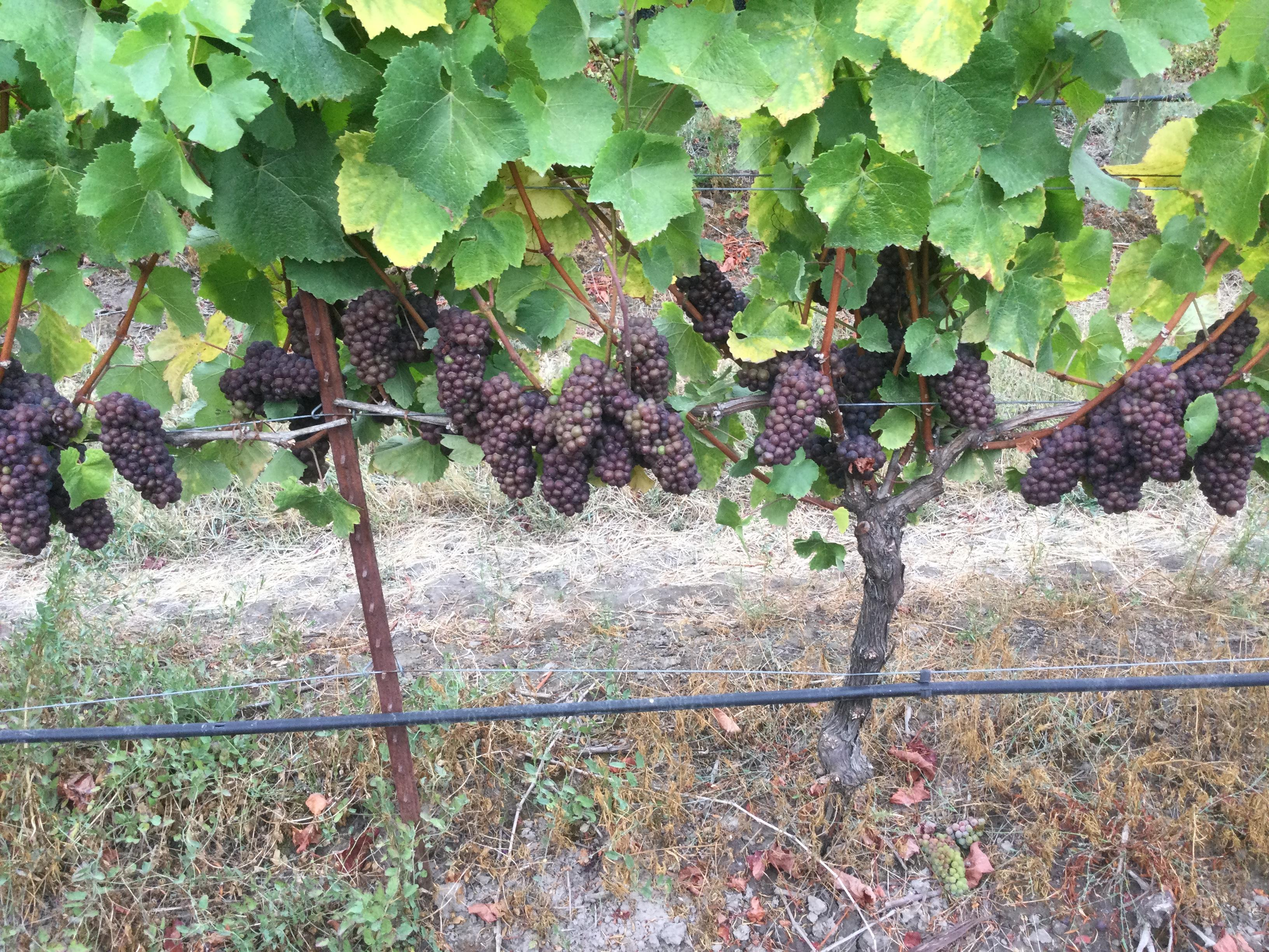leaf: (366, 43, 528, 214), (211, 110, 348, 268), (336, 131, 453, 267), (639, 4, 776, 117), (872, 56, 979, 200), (0, 0, 131, 117), (803, 134, 931, 251), (739, 0, 854, 123), (244, 0, 378, 103), (0, 109, 90, 257), (77, 143, 186, 260), (1180, 103, 1268, 244), (589, 130, 697, 242), (507, 75, 617, 174), (160, 52, 271, 150), (930, 174, 1024, 289), (1069, 0, 1209, 75), (856, 0, 986, 79), (1104, 117, 1196, 227), (980, 105, 1069, 197), (946, 32, 1016, 145), (146, 312, 229, 399), (131, 120, 212, 208), (528, 0, 617, 79), (111, 11, 188, 100), (988, 271, 1064, 358), (992, 0, 1068, 86), (1108, 235, 1183, 321), (1052, 25, 1137, 99), (453, 211, 526, 289), (638, 205, 704, 291), (23, 306, 94, 381), (1069, 125, 1131, 210), (200, 254, 274, 325), (32, 250, 101, 326), (727, 298, 809, 361), (97, 346, 174, 413), (653, 301, 719, 379), (275, 477, 360, 537), (283, 256, 381, 301), (815, 82, 879, 148), (628, 71, 695, 134), (1058, 226, 1112, 301), (826, 0, 886, 66), (146, 266, 204, 334), (369, 436, 448, 483), (349, 0, 445, 37), (1188, 61, 1268, 105), (58, 446, 114, 508), (172, 443, 232, 500), (753, 250, 819, 301), (514, 287, 570, 347), (1218, 0, 1268, 63), (247, 82, 294, 149), (904, 317, 957, 376), (180, 0, 253, 42), (1039, 175, 1084, 241), (1148, 242, 1206, 293), (214, 440, 274, 485), (685, 426, 726, 490), (737, 110, 782, 167), (769, 447, 818, 498), (495, 0, 546, 45), (839, 250, 877, 309), (1183, 393, 1218, 456), (792, 531, 845, 570), (781, 112, 818, 166), (1063, 78, 1106, 123), (872, 407, 916, 449), (1002, 186, 1046, 227), (257, 451, 305, 484), (856, 314, 892, 352), (878, 372, 920, 404), (1204, 0, 1237, 30), (323, 102, 343, 130), (206, 404, 229, 423), (209, 382, 222, 400), (824, 268, 831, 288), (200, 389, 208, 399), (194, 374, 199, 386), (615, 116, 622, 122), (280, 452, 291, 455), (0, 296, 11, 299), (346, 100, 350, 108), (847, 83, 856, 86), (870, 133, 875, 137), (199, 420, 204, 423), (843, 283, 846, 288), (331, 131, 334, 135), (1163, 192, 1172, 193), (619, 126, 623, 128), (837, 86, 841, 88), (132, 93, 134, 97), (1266, 22, 1268, 25), (1222, 17, 1225, 19), (23, 89, 25, 92), (520, 40, 522, 42), (905, 407, 908, 408), (822, 278, 823, 280), (1199, 219, 1201, 220), (799, 296, 800, 296), (1178, 216, 1182, 216), (613, 130, 617, 130)
